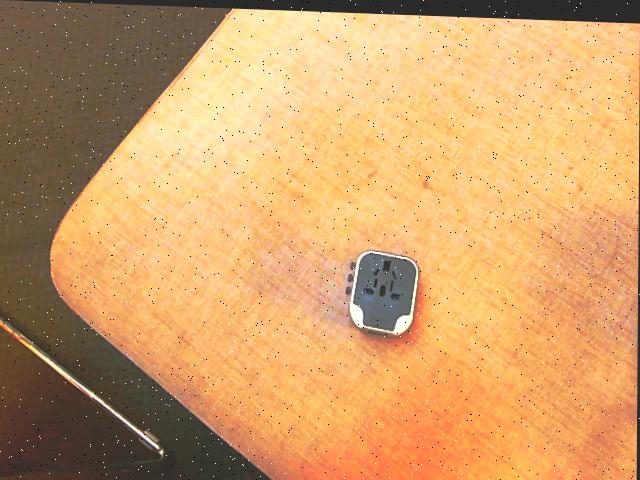adapter: (346, 246, 419, 334)
